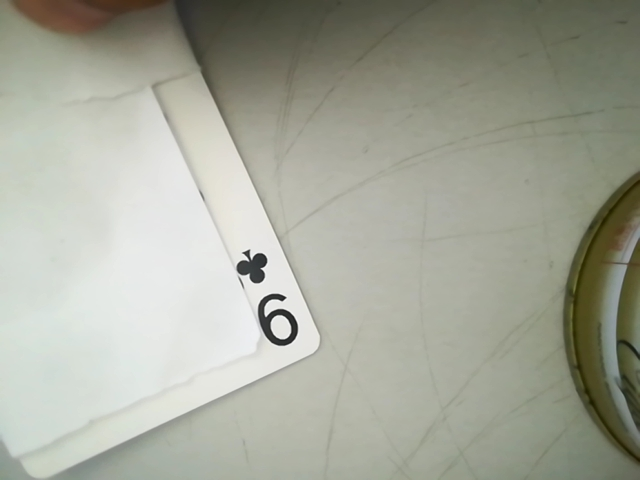mh 9: (228, 237, 303, 356)
